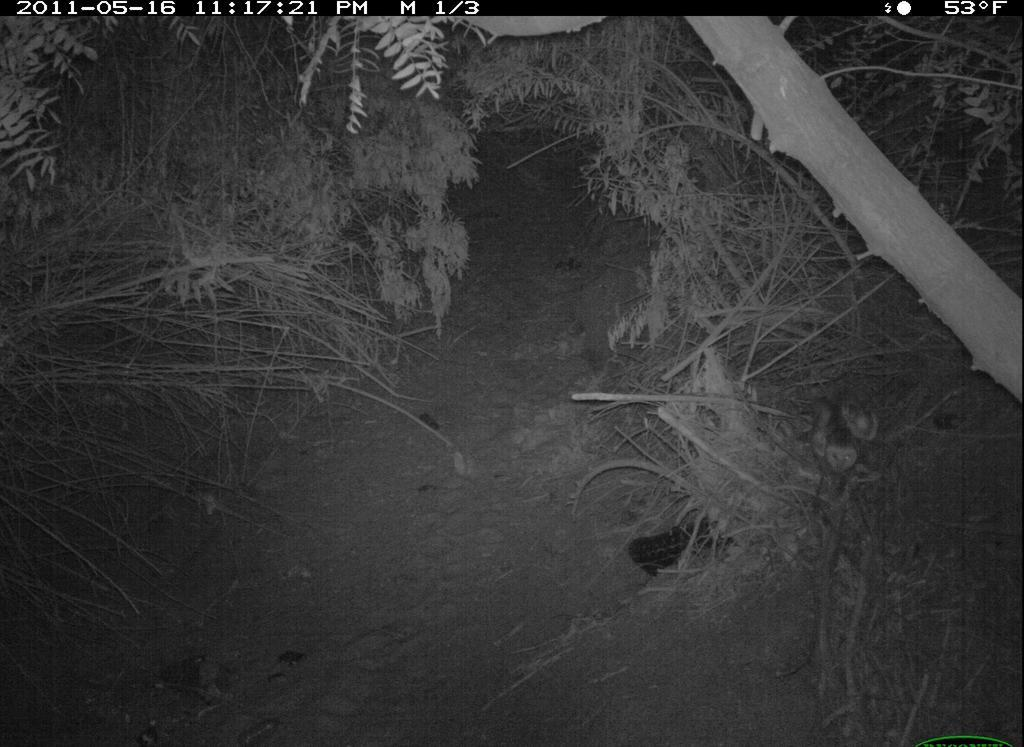bird: (807, 386, 884, 505)
